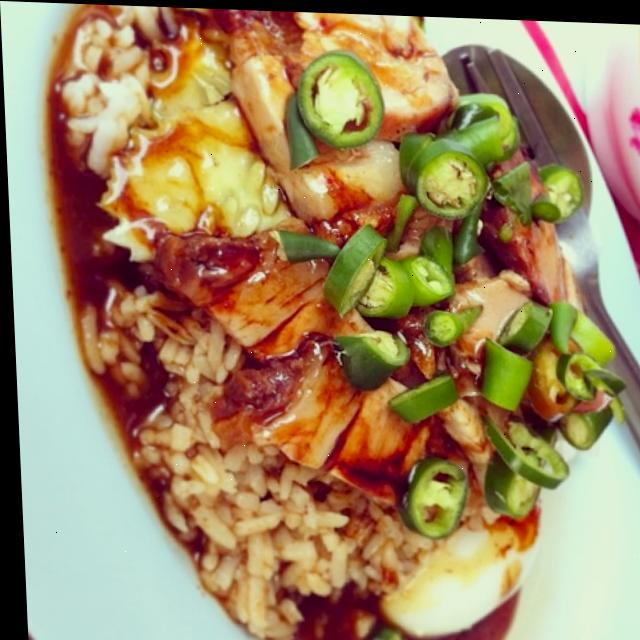猪肉菜式: (25, 1, 615, 635)
